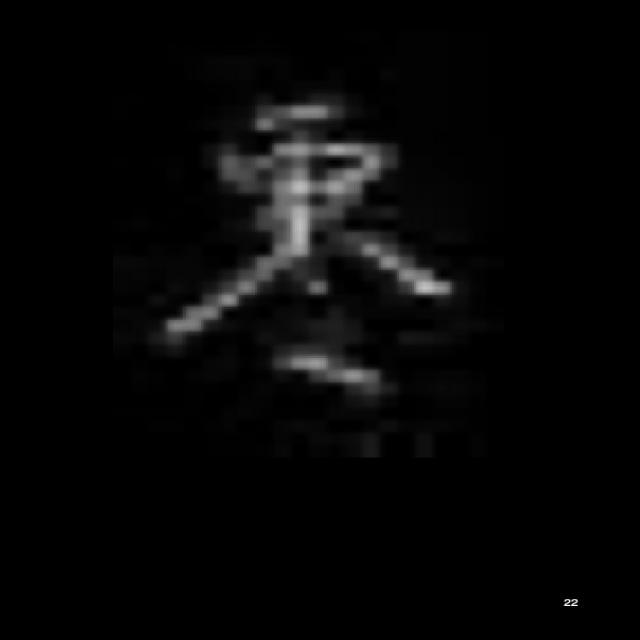0 -zero-: (153, 99, 473, 407)
